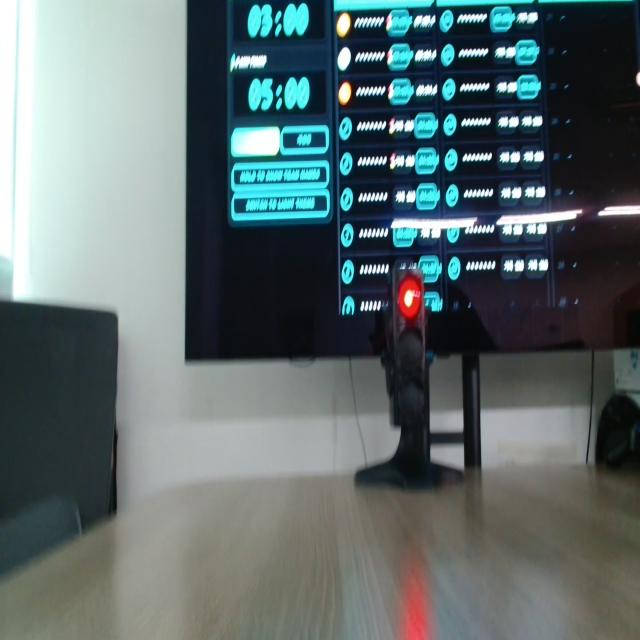red_light: (398, 276, 422, 320)
